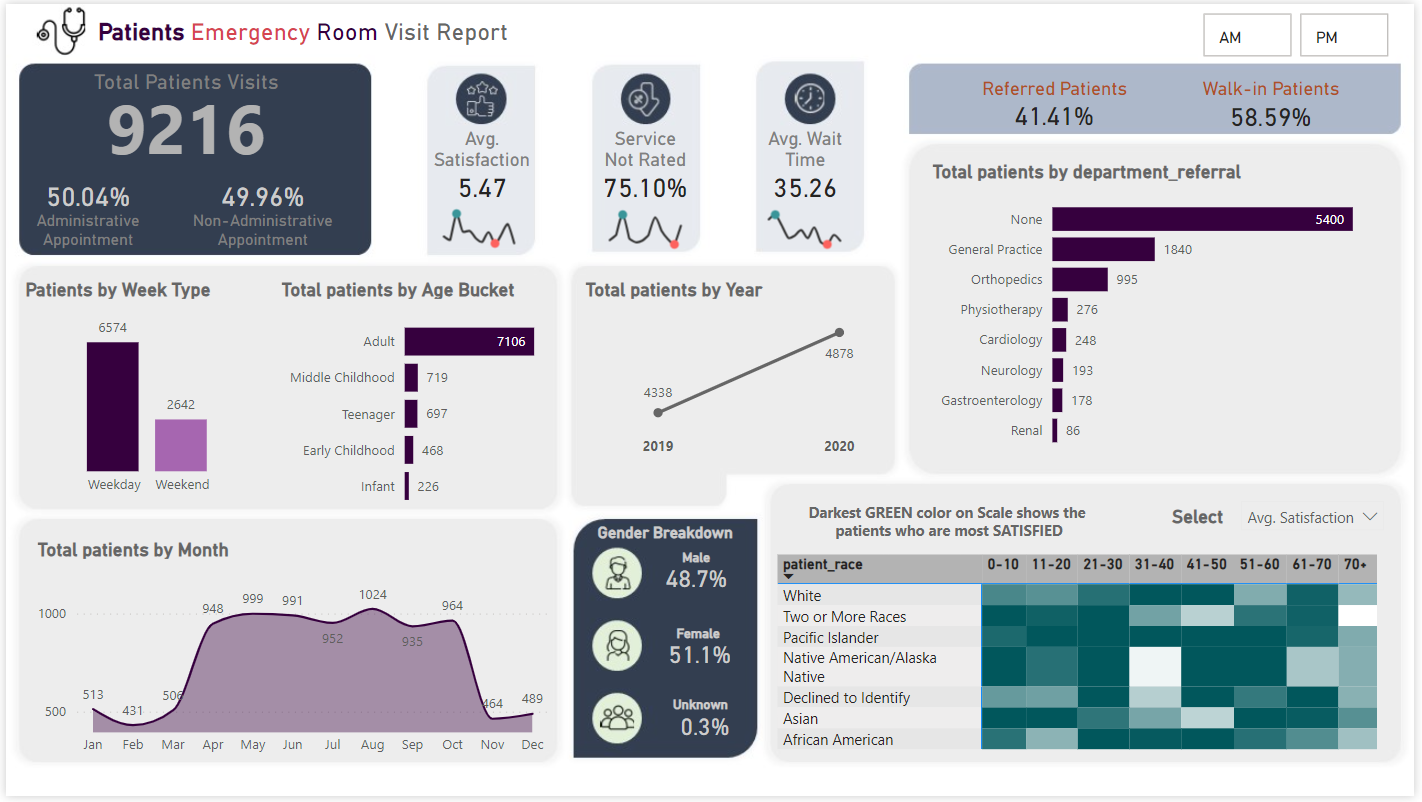

Layout of this report page (visuals, bound fields, positions):
{"tool":"powerbi","page":{"name":"Page 1","canvas":[1280,720],"ordinal":0},"visuals":[{"type":"card","fields":{"Values":["Calculation.Total patients"]},"box":[74.5,67.4,178.2,83.3],"z":0},{"type":"card","fields":{"Values":["Calculation.%admin schedule"]},"box":[30.1,144.5,88.7,59.4],"z":1000},{"type":"card","fields":{"Values":["Calculation.%non admin schedule"]},"box":[188.9,141.9,88.7,65.6],"z":2000},{"type":"card","title":"Avg. Satisfaction","fields":{"Values":["Calculation.Average Satisfaction Score"]},"box":[380,112,105,71],"z":3000},{"type":"card","title":"Avg. Wait Time","fields":{"Values":["Calculation.Average Wait Time"]},"box":[677.4,111.7,98.4,70.9],"z":4000},{"type":"pivotTable","fields":{"Values":["Calculation.Average Satisfaction Score"],"Rows":["Hospital ER.patient_race"],"Columns":["Hospital ER.Age Group"]},"box":[696.1,495.7,569.3,195.1],"z":5000},{"type":"slicer","fields":{"Values":["Parameter.Parameter"]},"box":[1112.8,441.6,149.9,42.6],"z":6000},{"type":"barChart","fields":{"Category":["Hospital ER.Age Bucket"],"Y":["Calculation.Total patients"]},"box":[245.6,249.2,254.5,220.8],"z":7000},{"type":"areaChart","fields":{"Category":["Date.Month"],"Y":["Calculation.Total patients"]},"box":[23.9,485,474.4,205.7],"z":8000},{"type":"advancedSlicerVisual","fields":{"Values":["Hospital ER.Moment"]},"box":[1083.5,3.5,179.1,49.7],"z":9000},{"type":"lineChart","fields":{"Y":["Calculation.Total patients"],"Category":["Date.Date.Variation.Date Hierarchy.Year"]},"box":[522.3,249.2,306.8,171.1],"z":10000},{"type":"clusteredBarChart","fields":{"Y":["Calculation.Total patients"],"Category":["Hospital ER.department_referral"]},"box":[837,141.9,425.6,273.1],"z":11000},{"type":"card","fields":{"Values":["Calculation.HMap Caption"]},"box":[693.4,438,327.2,65.6],"z":12000},{"type":"card","fields":{"Values":["Calculation.% Un Referred Patients"]},"box":[1104.8,74.5,89.6,55],"z":13000},{"type":"card","fields":{"Values":["Calculation.% Referred Patients"]},"box":[903.5,77.1,98.4,48.8],"z":14000},{"type":"textbox","box":[0,182.7,149,60.3],"z":15000},{"type":"textbox","box":[149,182.7,168.5,54.1],"z":16000},{"type":"textbox","box":[1075.6,62.1,149,29.3],"z":17000},{"type":"textbox","box":[868.1,62.1,170.2,29.3],"z":18000},{"type":"columnChart","title":"Patients by Week Type","fields":{"Y":["Calculation.Total patients"],"Category":["Date.Weektype"]},"box":[12.4,249.2,233.2,205.7],"z":19000},{"type":"card","fields":{"Values":["Calculation.% Female Visit"]},"box":[589.7,506.3,75.4,31],"z":20000},{"type":"card","fields":{"Values":["Calculation.% Male Visit"]},"box":[594.1,566.6,73.6,49.7],"z":21000},{"type":"card","fields":{"Values":["Calculation.% Unkown"]},"box":[598.5,632.2,74.5,48.8],"z":22000},{"type":"card","title":"Service Not Rated","fields":{"Values":["Calculation.% No rating"]},"box":[534.7,111.7,93.1,70.9],"z":23000},{"type":"textbox","box":[66.5,55,195.1,52.3],"z":24000},{"type":"textbox","box":[598.5,488.6,58.5,31],"z":25000},{"type":"textbox","box":[600.3,556.8,58.5,31],"z":26000},{"type":"textbox","box":[597.6,621.6,68.3,31],"z":27000},{"type":"textbox","box":[522.3,466.4,155.2,31],"z":28000},{"type":"textbox","box":[1049.9,451.3,66.5,31],"z":29000},{"type":"textbox","box":[58.5,7.1,423.8,40.8],"z":30000},{"type":"PBI_CV_25997FEB_F466_44FA_B562_AC4063283C4C","fields":{"measure":["Calculation.Average Satisfaction Score"],"axis":["Date.Month"]},"box":[380,174,104,55],"z":31000},{"type":"PBI_CV_25997FEB_F466_44FA_B562_AC4063283C4C","fields":{"axis":["Date.Month"],"measure":["Calculation.% No rating"]},"box":[531.1,174.7,104.6,55],"z":32000},{"type":"PBI_CV_25997FEB_F466_44FA_B562_AC4063283C4C","fields":{"axis":["Date.Month"],"measure":["Calculation.Average Wait Time"]},"box":[675.7,174.7,104.6,55],"z":33000}]}

Visuals, with their boxes in screenshot pixels (x1, y1, x2, y2), scaled from the page's 1280x720 canvas onto the 1422x802 screenshot:
card - Calculation.Total patients: x1=83 y1=75 x2=281 y2=168
card - Calculation.%admin schedule: x1=33 y1=161 x2=132 y2=227
card - Calculation.%non admin schedule: x1=210 y1=158 x2=308 y2=231
"Avg. Satisfaction" card: x1=422 y1=125 x2=539 y2=204
"Avg. Wait Time" card: x1=753 y1=124 x2=862 y2=203
pivotTable - Calculation.Average Satisfaction Score x Hospital ER.patient_race: x1=773 y1=552 x2=1406 y2=769
slicer - Parameter.Parameter: x1=1236 y1=492 x2=1403 y2=539
barChart - Hospital ER.Age Bucket x Calculation.Total patients: x1=273 y1=278 x2=556 y2=524
areaChart - Date.Month x Calculation.Total patients: x1=27 y1=540 x2=554 y2=769
advancedSlicerVisual - Hospital ER.Moment: x1=1204 y1=4 x2=1403 y2=59
lineChart - Calculation.Total patients x Date.Date.Variation.Date Hierarchy.Year: x1=580 y1=278 x2=921 y2=468
clusteredBarChart - Calculation.Total patients x Hospital ER.department_referral: x1=930 y1=158 x2=1403 y2=462
card - Calculation.HMap Caption: x1=770 y1=488 x2=1134 y2=561
card - Calculation.% Un Referred Patients: x1=1227 y1=83 x2=1327 y2=144
card - Calculation.% Referred Patients: x1=1004 y1=86 x2=1113 y2=140
textbox: x1=0 y1=204 x2=166 y2=271
textbox: x1=166 y1=204 x2=353 y2=264
textbox: x1=1195 y1=69 x2=1360 y2=102
textbox: x1=964 y1=69 x2=1153 y2=102
"Patients by Week Type" columnChart: x1=14 y1=278 x2=273 y2=507
card - Calculation.% Female Visit: x1=655 y1=564 x2=739 y2=598
card - Calculation.% Male Visit: x1=660 y1=631 x2=742 y2=686
card - Calculation.% Unkown: x1=665 y1=704 x2=748 y2=759
"Service Not Rated" card: x1=594 y1=124 x2=697 y2=203
textbox: x1=74 y1=61 x2=291 y2=120
textbox: x1=665 y1=544 x2=730 y2=579
textbox: x1=667 y1=620 x2=732 y2=655
textbox: x1=664 y1=692 x2=740 y2=727
textbox: x1=580 y1=520 x2=753 y2=554
textbox: x1=1166 y1=503 x2=1240 y2=537
textbox: x1=65 y1=8 x2=536 y2=53
PBI_CV_25997FEB_F466_44FA_B562_AC4063283C4C - Calculation.Average Satisfaction Score x Date.Month: x1=422 y1=194 x2=538 y2=255
PBI_CV_25997FEB_F466_44FA_B562_AC4063283C4C - Date.Month x Calculation.% No rating: x1=590 y1=195 x2=706 y2=256
PBI_CV_25997FEB_F466_44FA_B562_AC4063283C4C - Date.Month x Calculation.Average Wait Time: x1=751 y1=195 x2=867 y2=256
